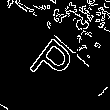P_NE: (28, 24, 82, 86)
